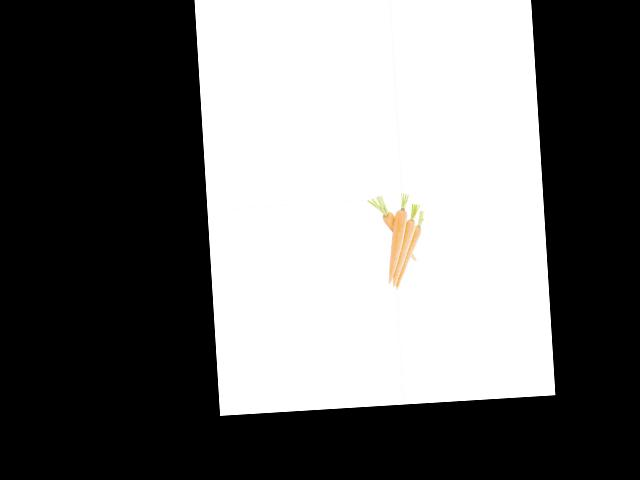carrot: (374, 202, 399, 235)
